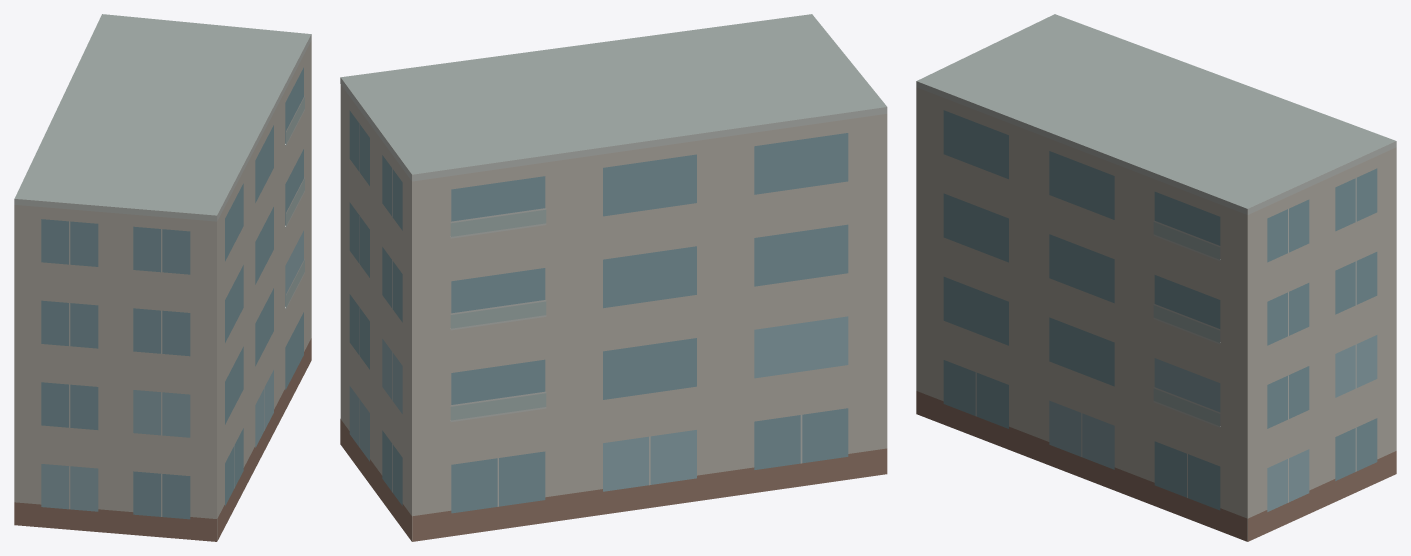
The model's file is survey-upis-32932930.glb.
3 views of the same model, side by side, from view 1: azimuth 30°, elevation 25°; view 2: azimuth 150°, elevation 25°; view 3: azimuth 270°, elevation 25° (orthographic). The views are drawn at different scales.
Parts seen in each view (by area): view 1: survey-upis-32932930.tmp; view 2: survey-upis-32932930.tmp; view 3: survey-upis-32932930.tmp.
Boxes of the visible parts, left/top/right/bottom form: survey-upis-32932930.tmp: left=14, top=14, right=311, bottom=541; survey-upis-32932930.tmp: left=340, top=14, right=887, bottom=541; survey-upis-32932930.tmp: left=916, top=14, right=1396, bottom=541.
Bounding box in the file's own units: 16.57 × 13.19 × 17.25.
